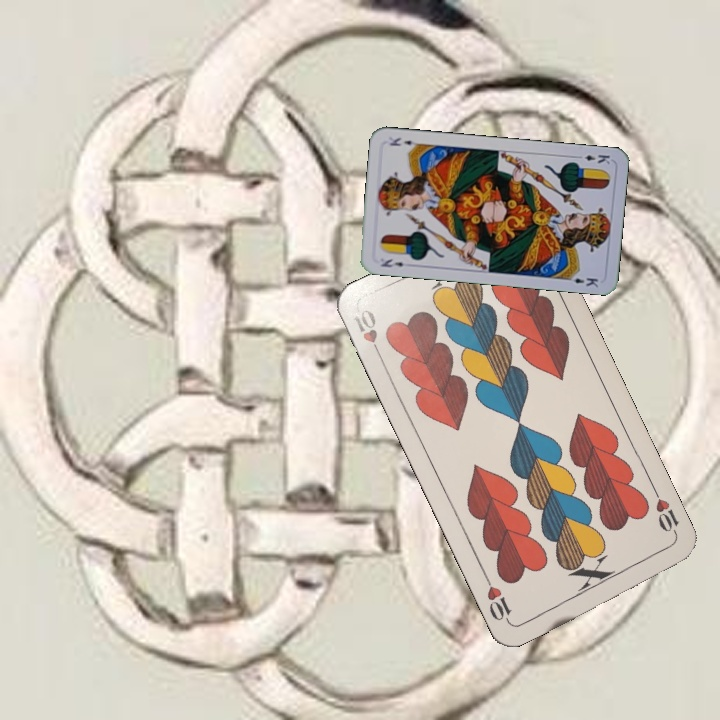EK: (572, 150, 613, 166), (377, 255, 406, 270)
H10: (348, 305, 385, 362), (649, 486, 682, 542)
